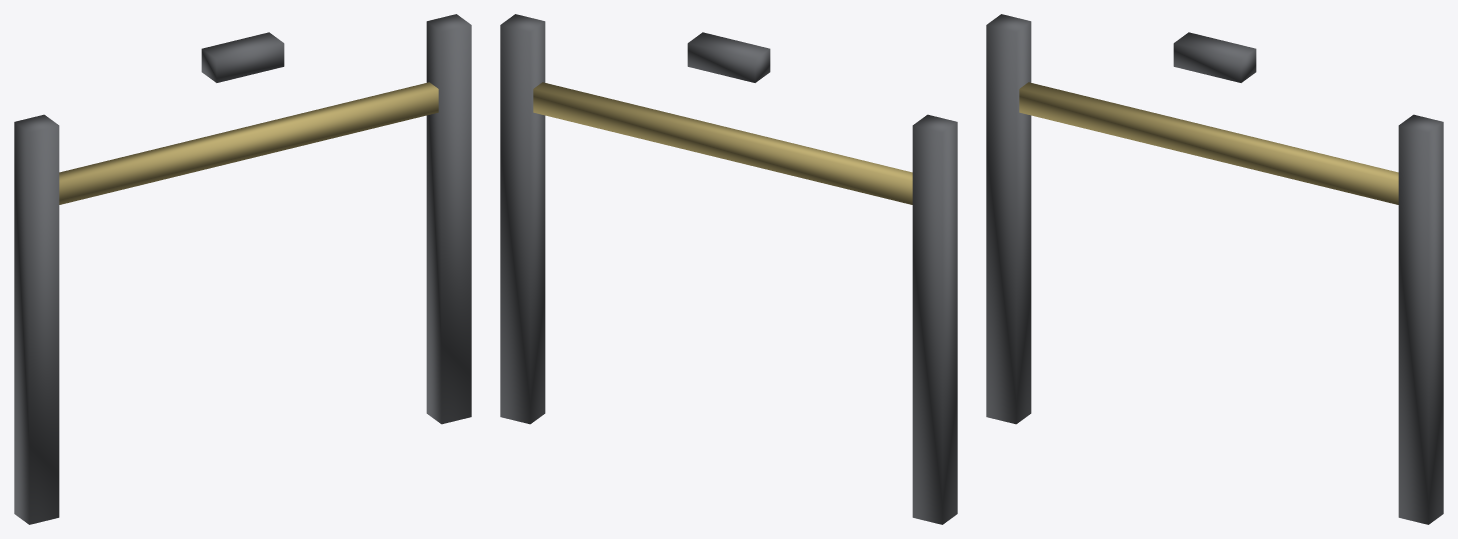
Rendered from queue_gate_03.glb.
The picture shows the model from 3 angles, left to right: view 1: azimuth 30°, elevation 25°; view 2: azimuth 150°, elevation 25°; view 3: azimuth 330°, elevation 25°; orthographic projection.
Parts seen in each view (by area): view 1: world; view 2: world; view 3: world.
Part boxes in pixels (box(x1,y1,x2,y2)): world: box(14, 14, 471, 524); world: box(500, 14, 957, 524); world: box(986, 14, 1443, 524).
Bounding box in the file's own units: 1.23 × 1.11 × 0.072.
